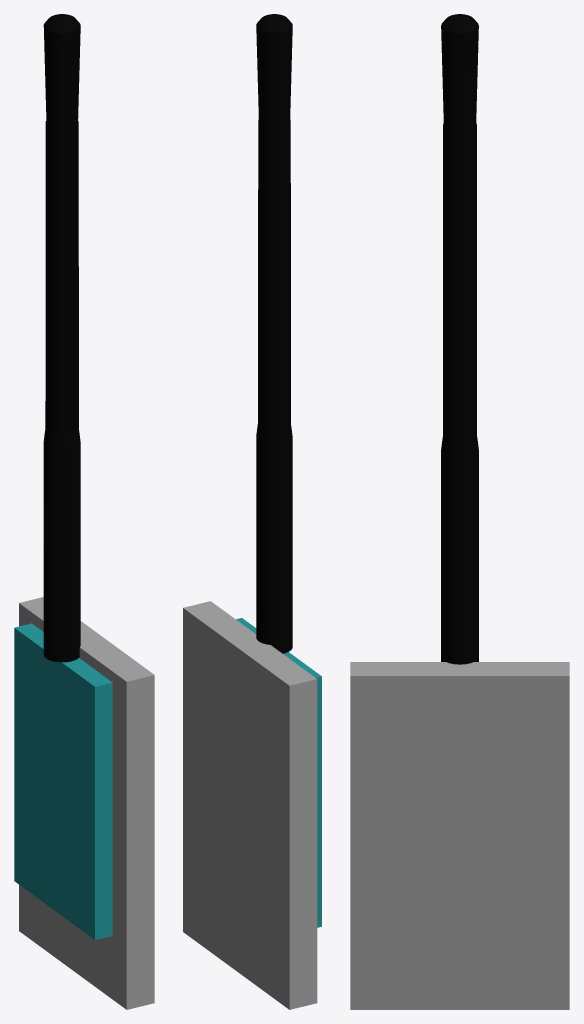
The model's file is UWB_DeviceR.fbx.
3 renders of one model, left to right at view 1: azimuth 30°, elevation 25°; view 2: azimuth 210°, elevation 25°; view 3: azimuth 270°, elevation 25°, orthographic. The views are drawn at different scales.
Parts seen in each view (by area): view 1: polySurface137, polySurface127, polySurface128; view 2: polySurface128, polySurface127, polySurface137; view 3: polySurface128, polySurface127.
Part boxes in pixels (box(x1,y1,x2,y2)): polySurface137: box(14, 623, 112, 940); polySurface127: box(43, 14, 80, 662); polySurface128: box(19, 597, 154, 1009); polySurface128: box(183, 601, 317, 1009); polySurface127: box(256, 14, 292, 653); polySurface137: box(236, 618, 321, 927); polySurface128: box(350, 662, 569, 1009); polySurface127: box(441, 14, 478, 664).
Size of the model in its own units: 0.116 by 1.93 by 0.3955.
